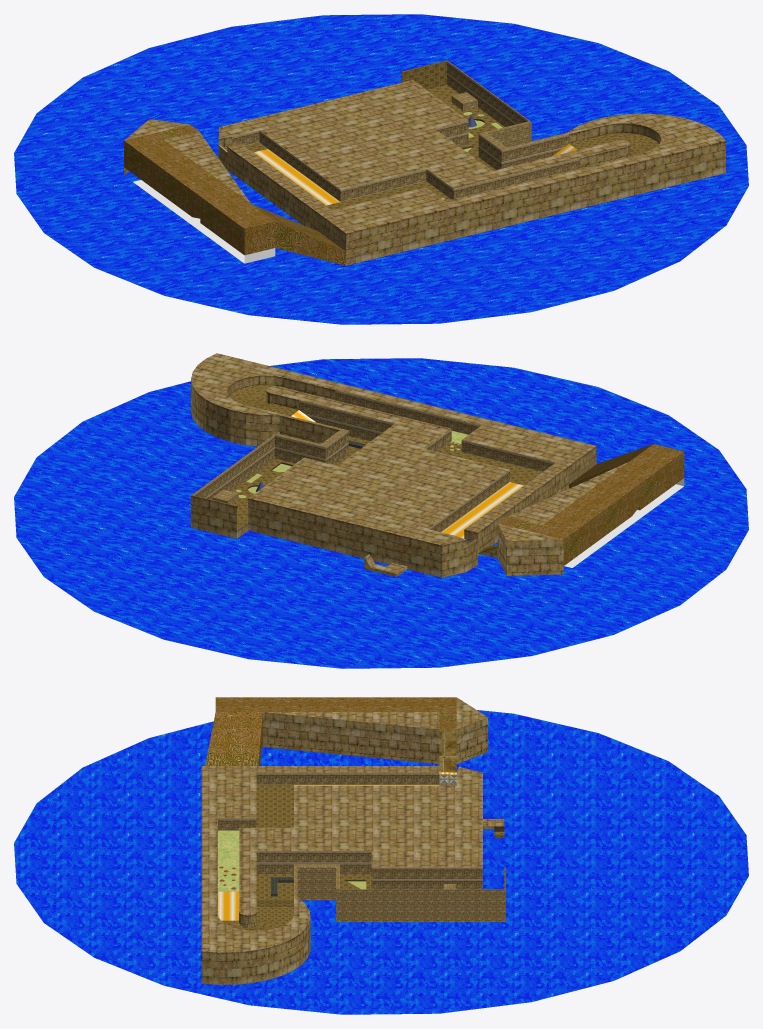
3 views of the same model, one above another, from view 1: azimuth 30°, elevation 25°; view 2: azimuth 150°, elevation 25°; view 3: azimuth 270°, elevation 25° (orthographic).
Parts seen in each view (by area): view 1: Dry_Dry_Temple-COM-Component_1-7389-water, Dry_Dry_Temple-COM-Component_1-7389-Brick_Wall, Dry_Dry_Temple-COM-Component_1-7389-Brown_WALL, Dry_Dry_Temple-COM-Component_1-7389-Material6, Dry_Dry_Temple-COM-Component_1-7389-Material7, Dry_Dry_Temple-COM-Component_1-7389-Default_Material, Dry_Dry_Temple-COM-Component_1-7389-boost1, Dry_Dry_Temple-COM-Component_1-7389-tyt; view 2: Dry_Dry_Temple-COM-Component_1-7389-water, Dry_Dry_Temple-COM-Component_1-7389-Brick_Wall, Dry_Dry_Temple-COM-Component_1-7389-Material6, Dry_Dry_Temple-COM-Component_1-7389-Brown_WALL, Dry_Dry_Temple-COM-Component_1-7389-Material7, Dry_Dry_Temple-COM-Component_1-7389-boost1, Dry_Dry_Temple-COM-Component_1-7389-Default_Material, Dry_Dry_Temple-COM-Component_1-7389-tyt; view 3: Dry_Dry_Temple-COM-Component_1-7389-water, Dry_Dry_Temple-COM-Component_1-7389-Brick_Wall, Dry_Dry_Temple-COM-Component_1-7389-Material6, Dry_Dry_Temple-COM-Component_1-7389-Brown_WALL, Dry_Dry_Temple-COM-Component_1-7389-Material7, Dry_Dry_Temple-COM-Component_1-7389-Material13, Dry_Dry_Temple-COM-Component_1-7389-tyt, Dry_Dry_Temple-COM-Component_1-7389-boost1.
Boxes of the visible parts, <box> form: Dry_Dry_Temple-COM-Component_1-7389-water: <box>14,14,748,324</box>; Dry_Dry_Temple-COM-Component_1-7389-Brick_Wall: <box>124,60,725,265</box>; Dry_Dry_Temple-COM-Component_1-7389-Brown_WALL: <box>124,124,345,265</box>; Dry_Dry_Temple-COM-Component_1-7389-Material6: <box>232,61,579,201</box>; Dry_Dry_Temple-COM-Component_1-7389-Material7: <box>245,60,504,209</box>; Dry_Dry_Temple-COM-Component_1-7389-Default_Material: <box>133,180,275,263</box>; Dry_Dry_Temple-COM-Component_1-7389-boost1: <box>219,144,623,205</box>; Dry_Dry_Temple-COM-Component_1-7389-tyt: <box>569,133,658,157</box>; Dry_Dry_Temple-COM-Component_1-7389-water: <box>14,358,748,668</box>; Dry_Dry_Temple-COM-Component_1-7389-Brick_Wall: <box>191,353,639,577</box>; Dry_Dry_Temple-COM-Component_1-7389-Material6: <box>193,390,554,532</box>; Dry_Dry_Temple-COM-Component_1-7389-Brown_WALL: <box>498,444,684,565</box>; Dry_Dry_Temple-COM-Component_1-7389-Material7: <box>192,436,542,553</box>; Dry_Dry_Temple-COM-Component_1-7389-boost1: <box>291,389,523,545</box>; Dry_Dry_Temple-COM-Component_1-7389-Default_Material: <box>564,478,684,567</box>; Dry_Dry_Temple-COM-Component_1-7389-tyt: <box>229,385,298,416</box>; Dry_Dry_Temple-COM-Component_1-7389-water: <box>14,710,748,1014</box>; Dry_Dry_Temple-COM-Component_1-7389-Brick_Wall: <box>201,697,505,984</box>; Dry_Dry_Temple-COM-Component_1-7389-Material6: <box>218,772,482,889</box>; Dry_Dry_Temple-COM-Component_1-7389-Brown_WALL: <box>205,697,456,765</box>; Dry_Dry_Temple-COM-Component_1-7389-Material7: <box>256,729,505,907</box>; Dry_Dry_Temple-COM-Component_1-7389-Material13: <box>218,830,366,891</box>; Dry_Dry_Temple-COM-Component_1-7389-tyt: <box>221,831,504,930</box>; Dry_Dry_Temple-COM-Component_1-7389-boost1: <box>218,772,456,920</box>.
Bounding box in the file's own units: 136464 × 11494 × 136464.
Materials: 18 (17 with a texture image).
